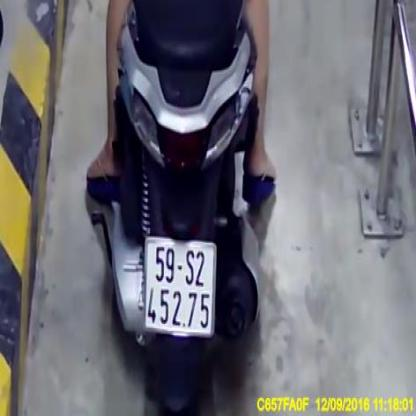Xemay: (143, 236, 216, 338)
